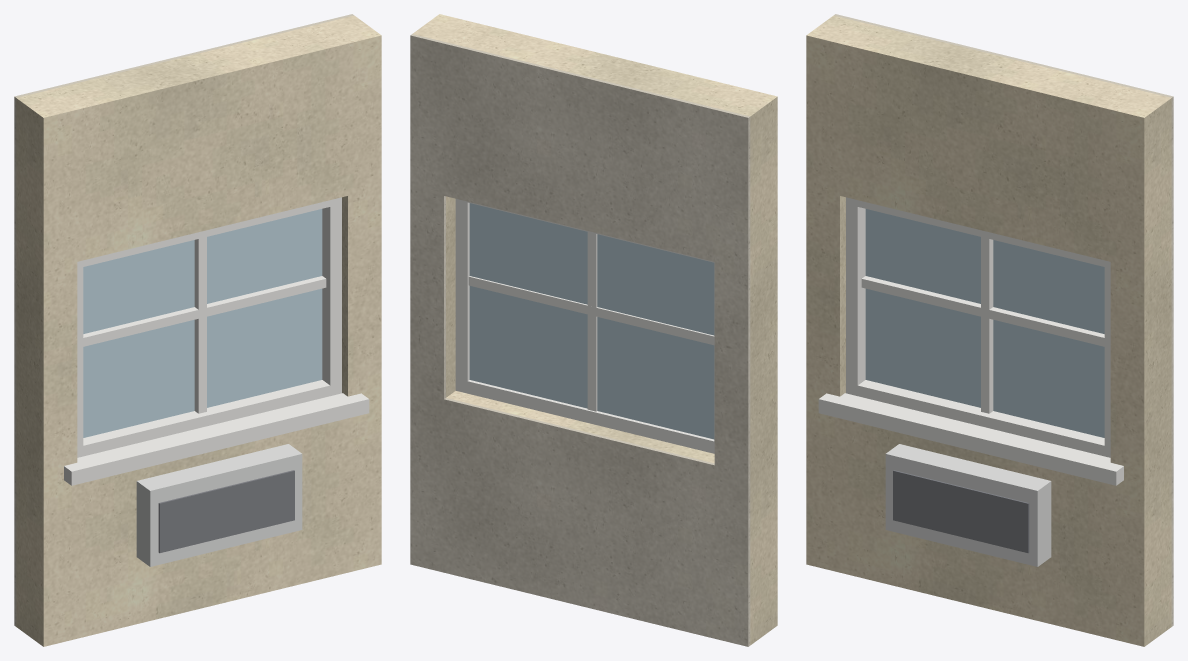
File: wall_up_window.glb
3 views of the same model, side by side, from view 1: azimuth 30°, elevation 25°; view 2: azimuth 150°, elevation 25°; view 3: azimuth 330°, elevation 25° (orthographic).
Visible parts, largest first — view 1: wall_up_window_stucco, wall_up_window_glass, wall_up_window_frame, wall_up_window_trim, wall_up_window_metal, wall_up_window_dark, wall_up_window_plaster; view 2: wall_up_window_plaster, wall_up_window_glass, wall_up_window_stucco, wall_up_window_frame; view 3: wall_up_window_stucco, wall_up_window_glass, wall_up_window_frame, wall_up_window_trim, wall_up_window_metal, wall_up_window_dark, wall_up_window_plaster.
Boxes of the visible parts, x1,y1,x2,y2 form: wall_up_window_stucco: [16, 15, 381, 646]; wall_up_window_glass: [83, 209, 322, 437]; wall_up_window_frame: [77, 197, 341, 457]; wall_up_window_trim: [64, 393, 369, 485]; wall_up_window_metal: [136, 444, 302, 566]; wall_up_window_dark: [158, 470, 294, 553]; wall_up_window_plaster: [14, 14, 353, 626]; wall_up_window_plaster: [410, 34, 750, 646]; wall_up_window_glass: [469, 203, 714, 439]; wall_up_window_stucco: [412, 14, 777, 645]; wall_up_window_frame: [455, 199, 714, 453]; wall_up_window_stucco: [806, 15, 1171, 646]; wall_up_window_glass: [865, 209, 1104, 437]; wall_up_window_frame: [846, 197, 1110, 457]; wall_up_window_trim: [818, 393, 1123, 485]; wall_up_window_metal: [885, 444, 1051, 566]; wall_up_window_dark: [893, 470, 1029, 553]; wall_up_window_plaster: [834, 14, 1173, 626].
Size of the model in its own units: 2 by 2.99 by 0.45.
7 materials, 2 textured.
